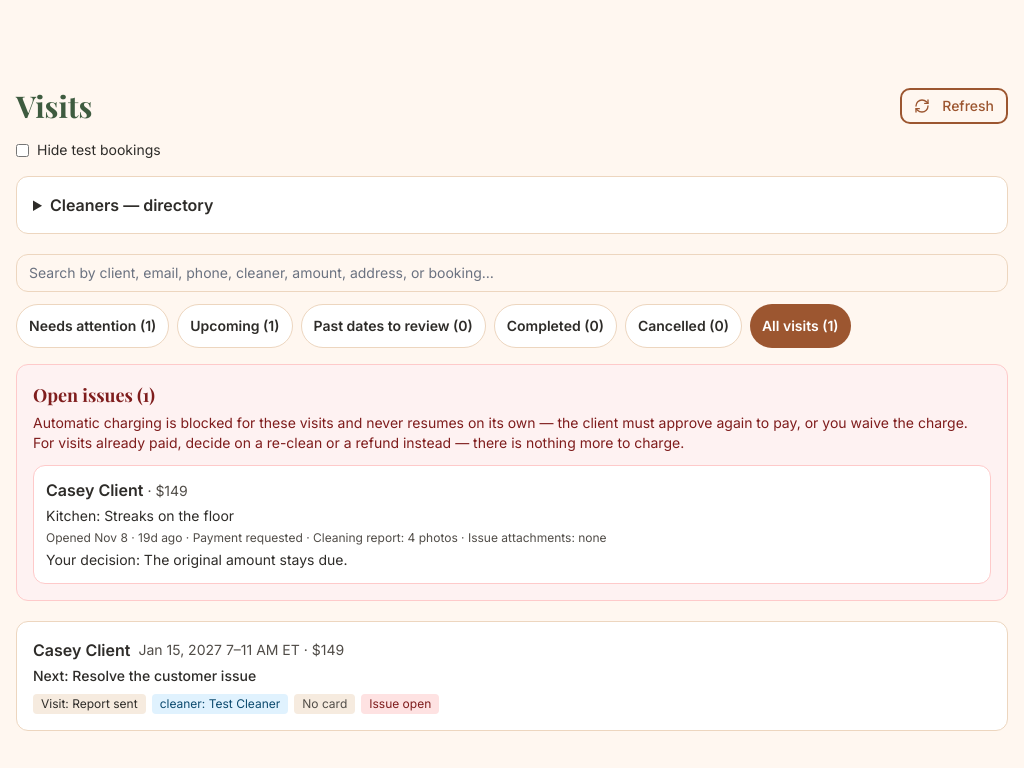
Test: owner dispute decisions (cabinets audit B1) › Arrange re-clean asks for confirmation before running
Later steps or results of the test are not shown.
Click the button "All visits (1)": x=800, y=326 [750, 304, 851, 348]
Click the button "Casey Client": x=95, y=490 [46, 478, 978, 570]
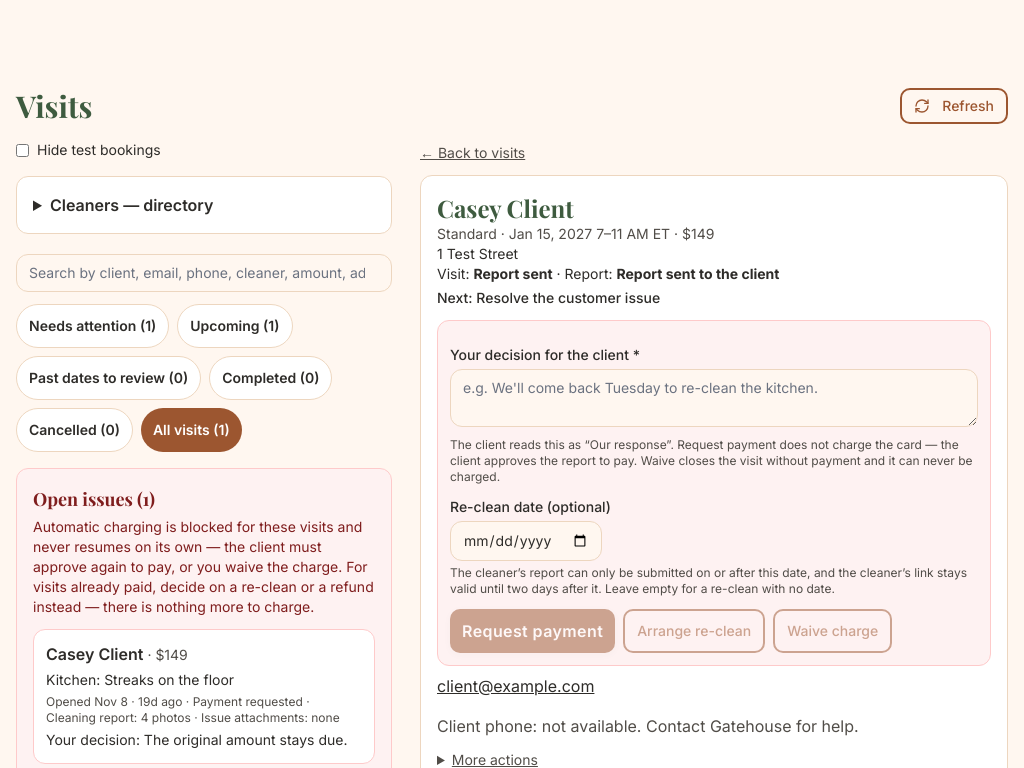
Check: the text "Your decision for the client *" is shown, box [450, 346, 640, 363]
In the text box labelled "Your decision for the client *": x=714, y=398 [450, 369, 978, 427], type "We'll come back Tuesday to re-clean the kitchen."
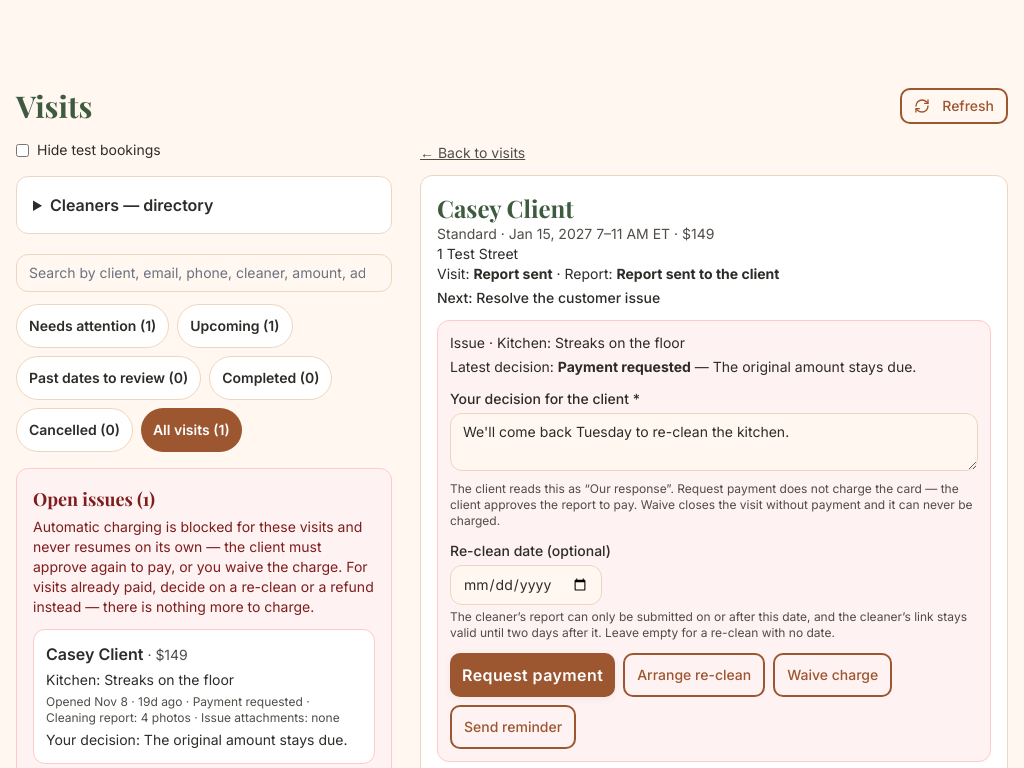
Click the button "Arrange re-clean": x=694, y=675 [623, 653, 765, 697]
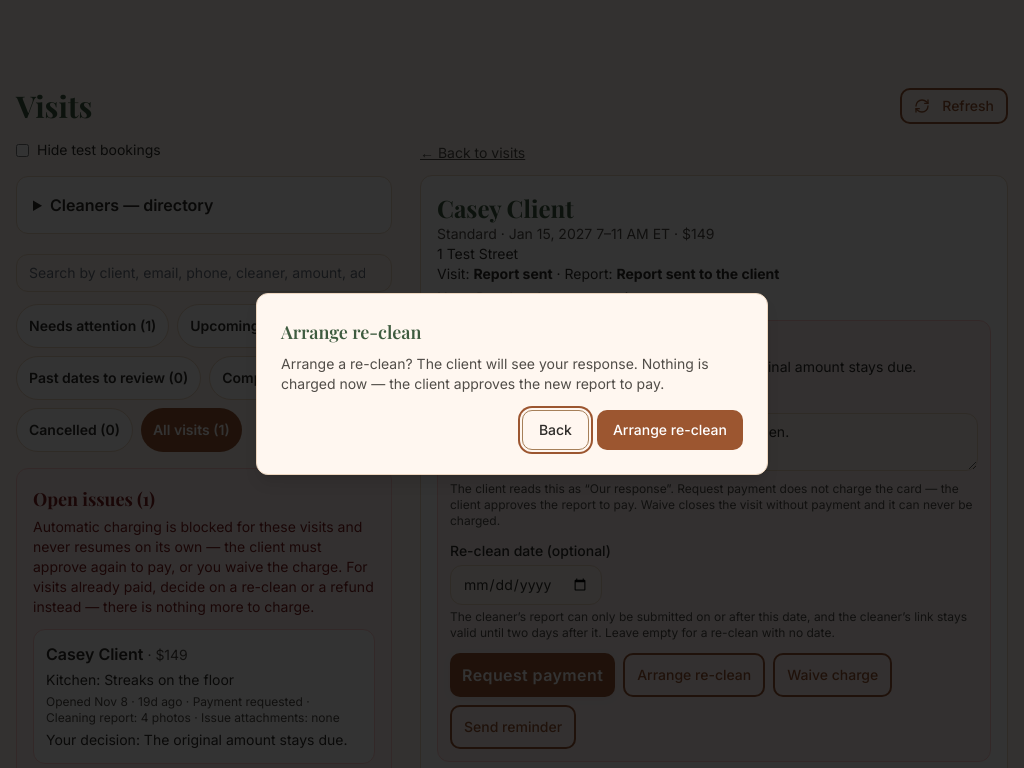
Check: the dialog shows "Arrange a re-clean", box [281, 355, 708, 392]
Check: the dialog shows "Nothing is charged now", box [281, 355, 708, 392]
